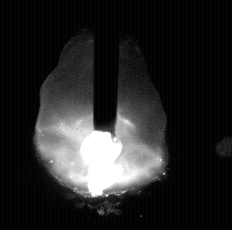arame: (94, 0, 118, 133)
poca: (34, 0, 164, 230)
